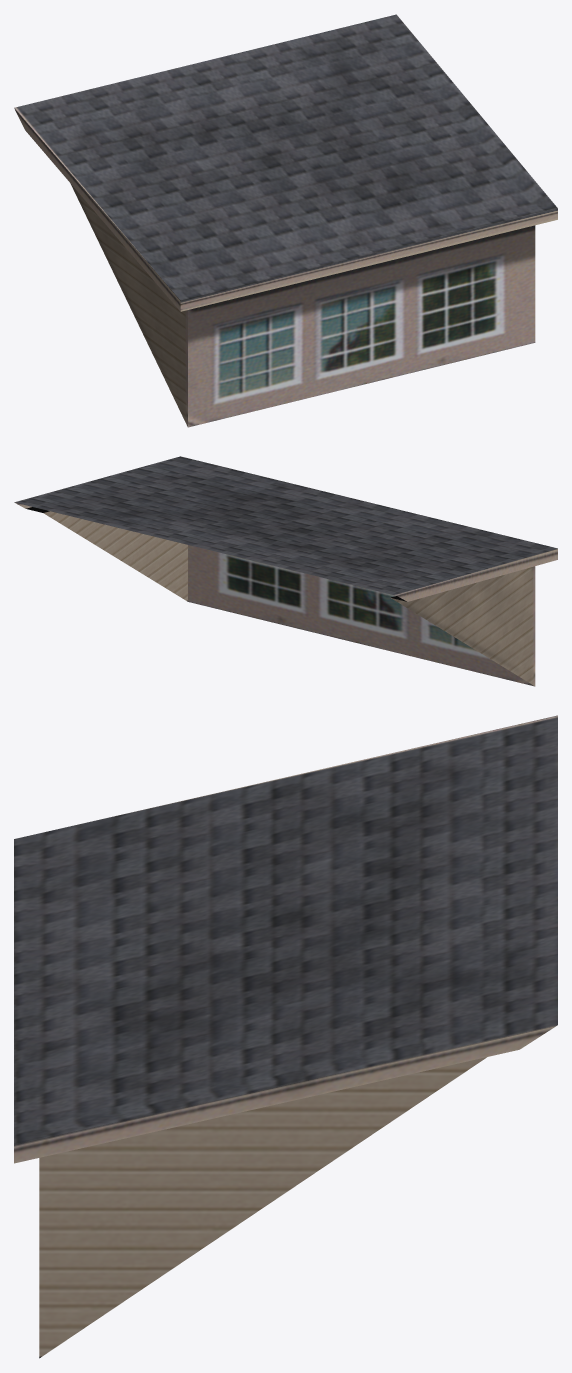
File: houseRoof04.obj
3 renders of one model, top to bottom at view 1: azimuth 30°, elevation 25°; view 2: azimuth 150°, elevation 25°; view 3: azimuth 270°, elevation 25°, orthographic. The views are drawn at different scales.
Parts seen in each view (by area): view 1: houseRoof04; view 2: houseRoof04; view 3: houseRoof04.
Part boxes in pixels (left/top/right/bottom): houseRoof04: left=14, top=14, right=557, bottom=427; houseRoof04: left=14, top=456, right=557, bottom=686; houseRoof04: left=14, top=715, right=557, bottom=1358.
Size of the model in its own units: 4.98 by 2.61 by 3.7.
Materials: 1 (1 with a texture image).
